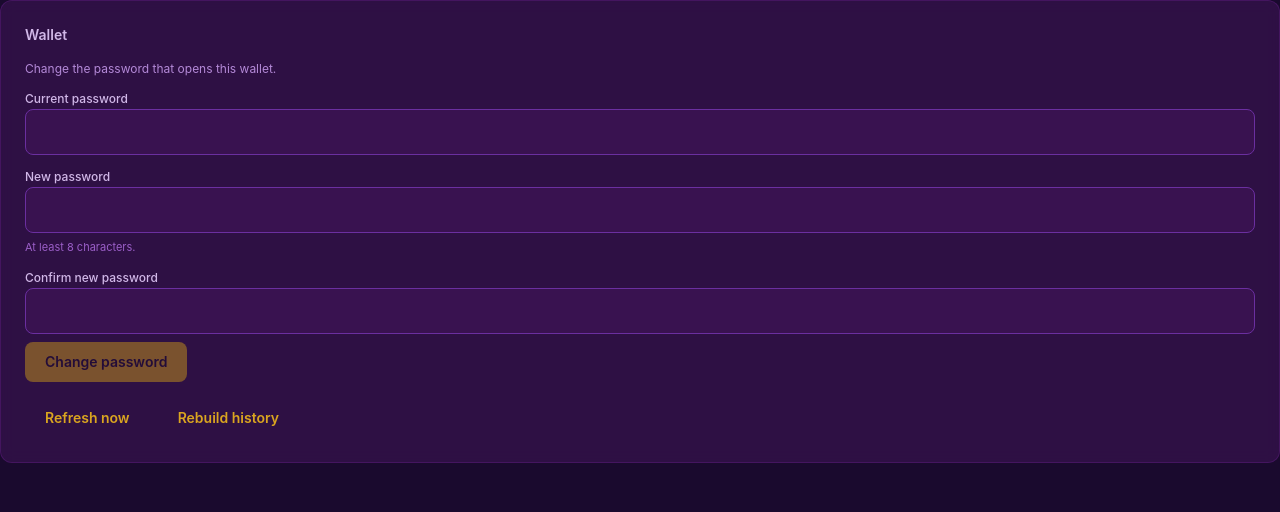
Test case: WalletCare › does not rebuild history until the person confirms
Step 1. Click the button "Rebuild history" → (228, 418), box [158, 398, 299, 438]
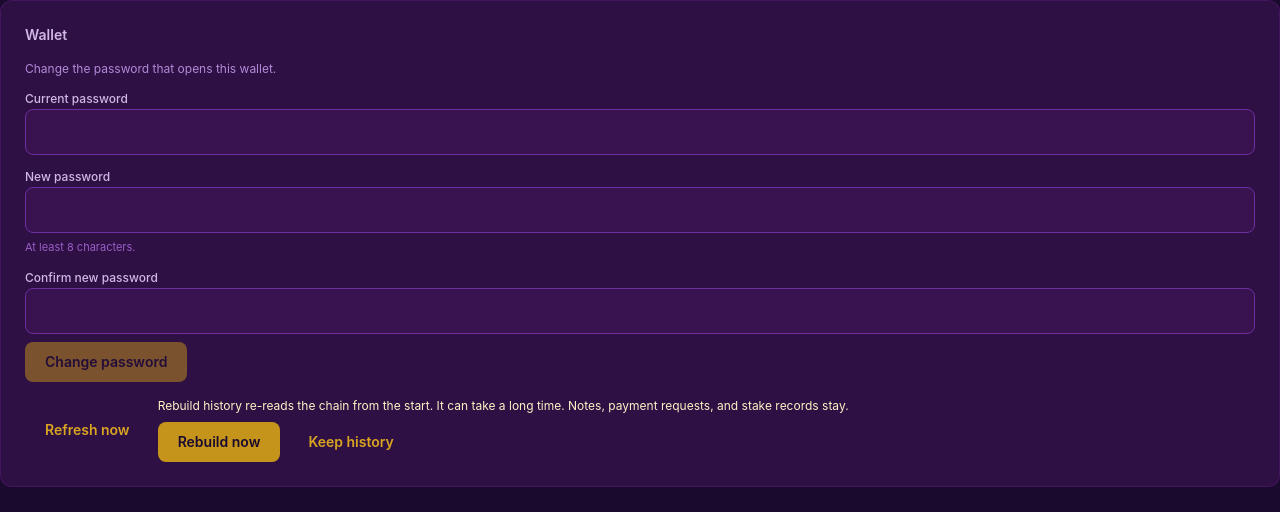
Expected: the text "re-reads the chain from the start" is shown, [158, 398, 849, 412]
Step 2. Click the button "Keep history" → (351, 442), box [288, 422, 414, 462]
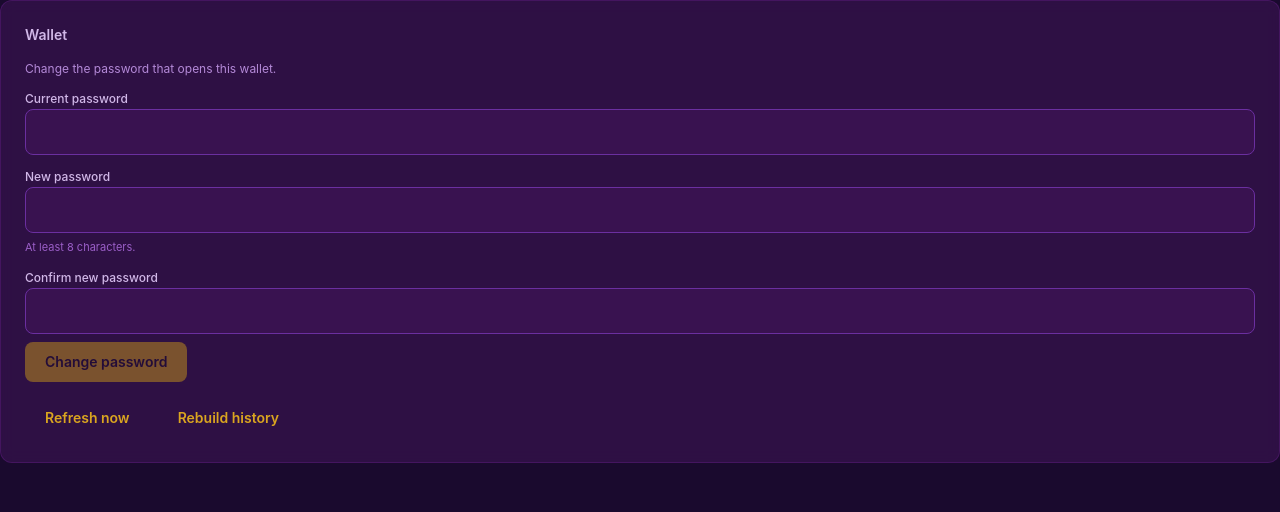
Step 3. Click the button "Rebuild history" → (228, 418), box [158, 398, 299, 438]
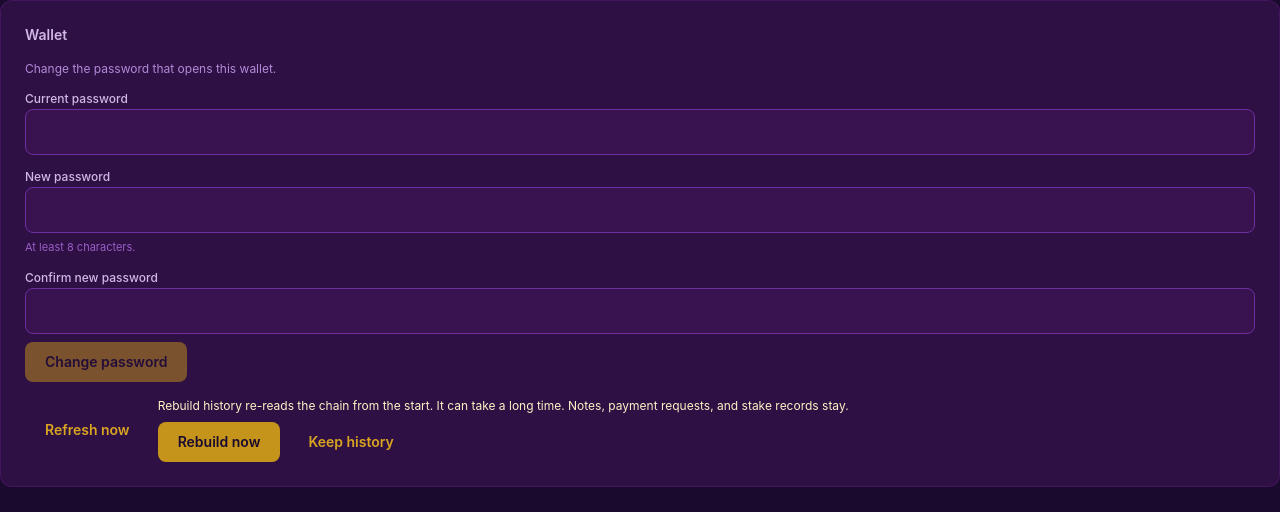
Step 4. Click the button "Rebuild now" → (219, 442), box [158, 422, 280, 462]
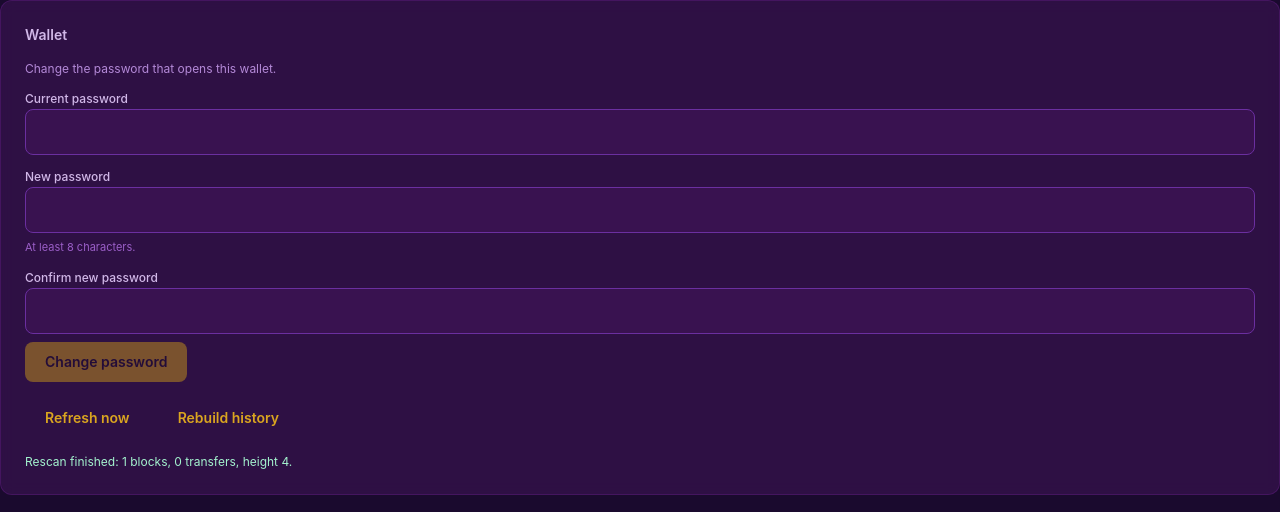
Expected: the text "Rescan finished: 1 blocks, 0 transfers, height 4." is shown, [25, 454, 292, 468]
